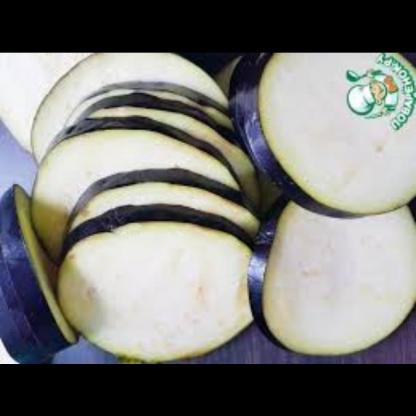eggplant: (0, 53, 405, 364)
